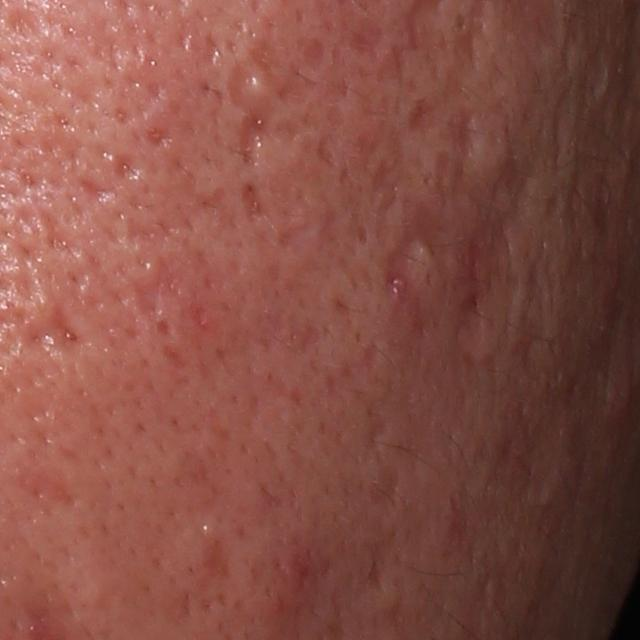atrophic_scar: (381, 149, 472, 300), (454, 214, 522, 365), (227, 63, 279, 174), (123, 248, 193, 327), (249, 44, 315, 112), (23, 296, 91, 354), (488, 134, 526, 207), (241, 179, 275, 226), (444, 109, 480, 153), (8, 5, 51, 41), (79, 173, 123, 205), (299, 34, 331, 74), (15, 267, 41, 306), (143, 121, 174, 152), (314, 131, 338, 166)
hypertrophic_scar: (240, 70, 274, 109)
